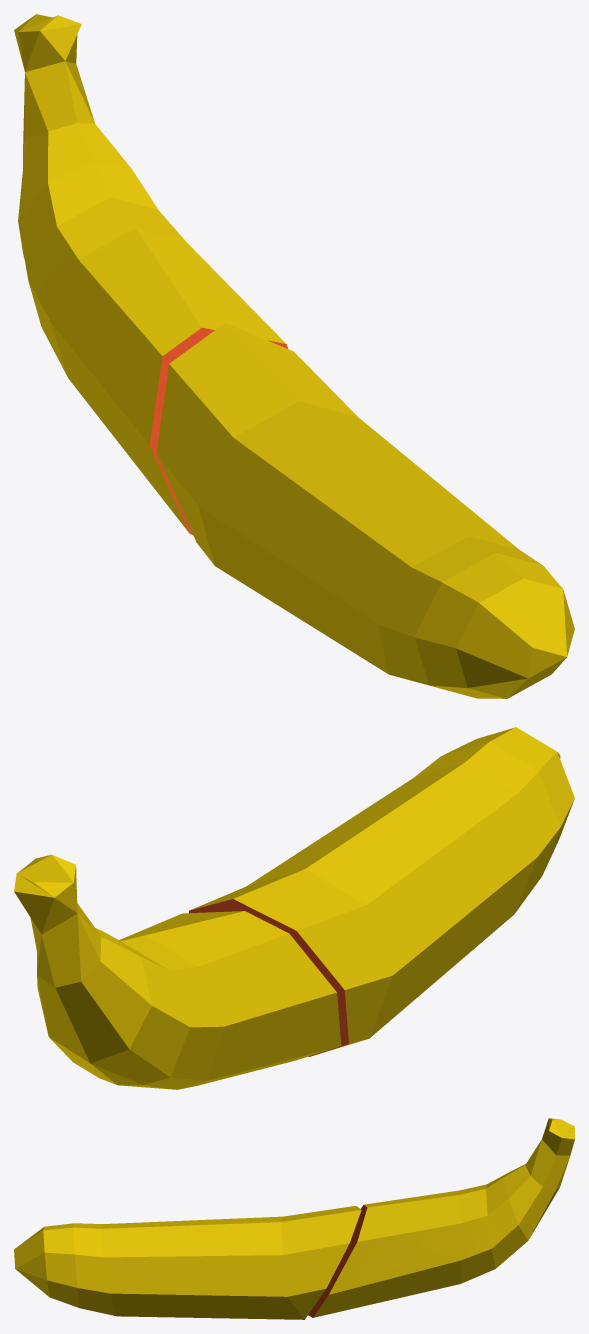
File: BrokenBanana.fbx
3 views of the same model, one above another, from view 1: azimuth 30°, elevation 25°; view 2: azimuth 150°, elevation 25°; view 3: azimuth 270°, elevation 25° (orthographic). The views are drawn at different scales.
Parts seen in each view (by area): view 1: Banana_cell.001, Banana_cell; view 2: Banana_cell.001, Banana_cell; view 3: Banana_cell.001, Banana_cell.
Boxes of the visible parts, box(x1,y1,x2,y2) form: Banana_cell.001: box(156, 323, 574, 698); Banana_cell: box(14, 14, 288, 534); Banana_cell.001: box(189, 727, 574, 1056); Banana_cell: box(14, 854, 341, 1089); Banana_cell.001: box(14, 1206, 361, 1319); Banana_cell: box(308, 1118, 574, 1317).
Size of the model in its own units: 3.78 by 7.76 by 19.26.
